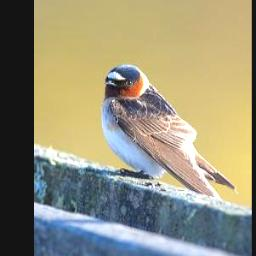Swallow: (100, 64, 238, 204)
